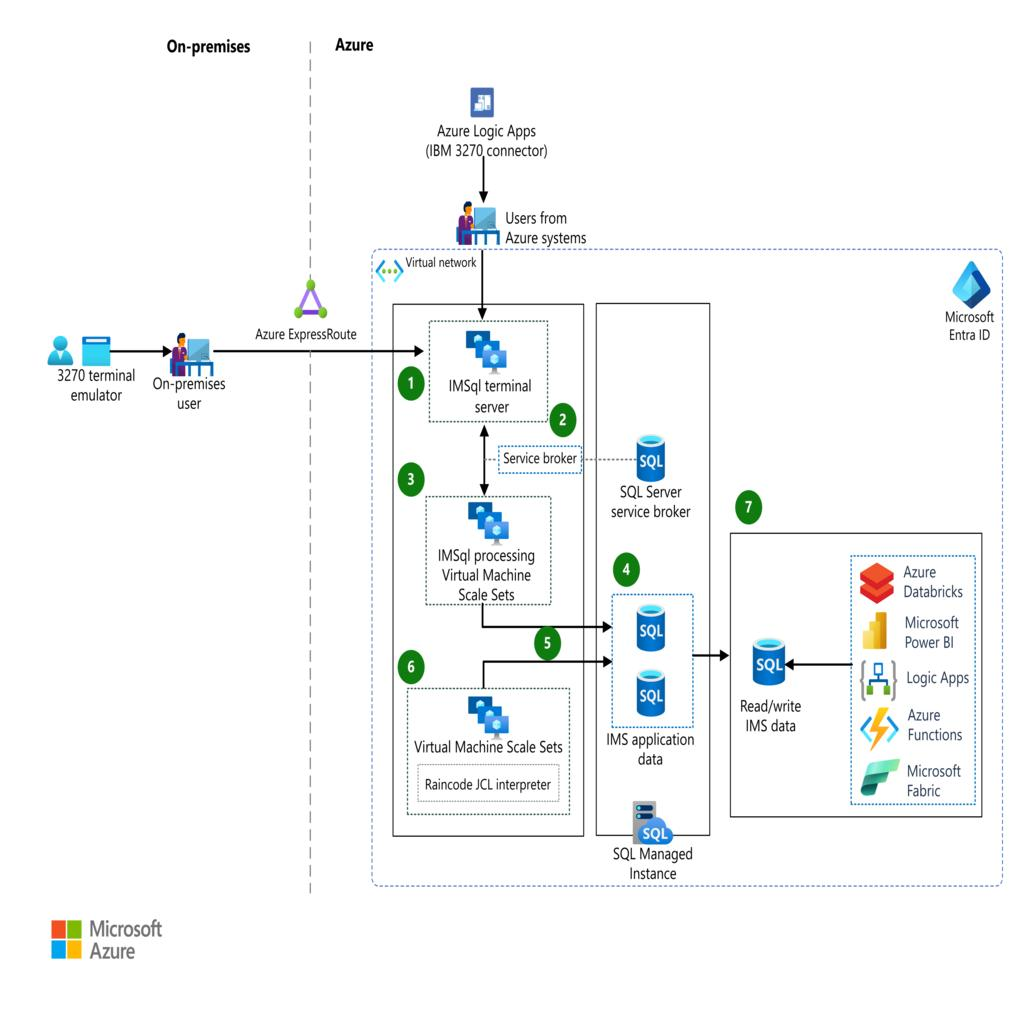actor: (46, 328, 120, 400), (164, 328, 215, 400), (454, 198, 494, 248)
compute: (406, 684, 570, 812), (427, 495, 548, 603), (427, 318, 548, 420), (440, 80, 522, 162), (851, 556, 972, 602), (851, 653, 972, 699), (851, 702, 972, 748)
data_flow: (204, 345, 412, 355), (482, 622, 610, 632), (482, 656, 610, 666), (502, 454, 612, 464), (476, 420, 486, 498), (476, 246, 486, 297), (796, 658, 838, 668), (476, 154, 486, 194), (120, 345, 152, 355), (694, 650, 725, 660)
database_storage: (612, 596, 694, 714), (612, 430, 694, 522), (612, 792, 694, 870), (851, 751, 972, 797), (851, 604, 972, 650), (736, 622, 796, 706)
network_security: (950, 268, 992, 330), (288, 274, 330, 324)
trust_boundary: (370, 244, 1002, 886), (393, 299, 582, 831), (730, 530, 980, 818), (594, 299, 710, 831)
